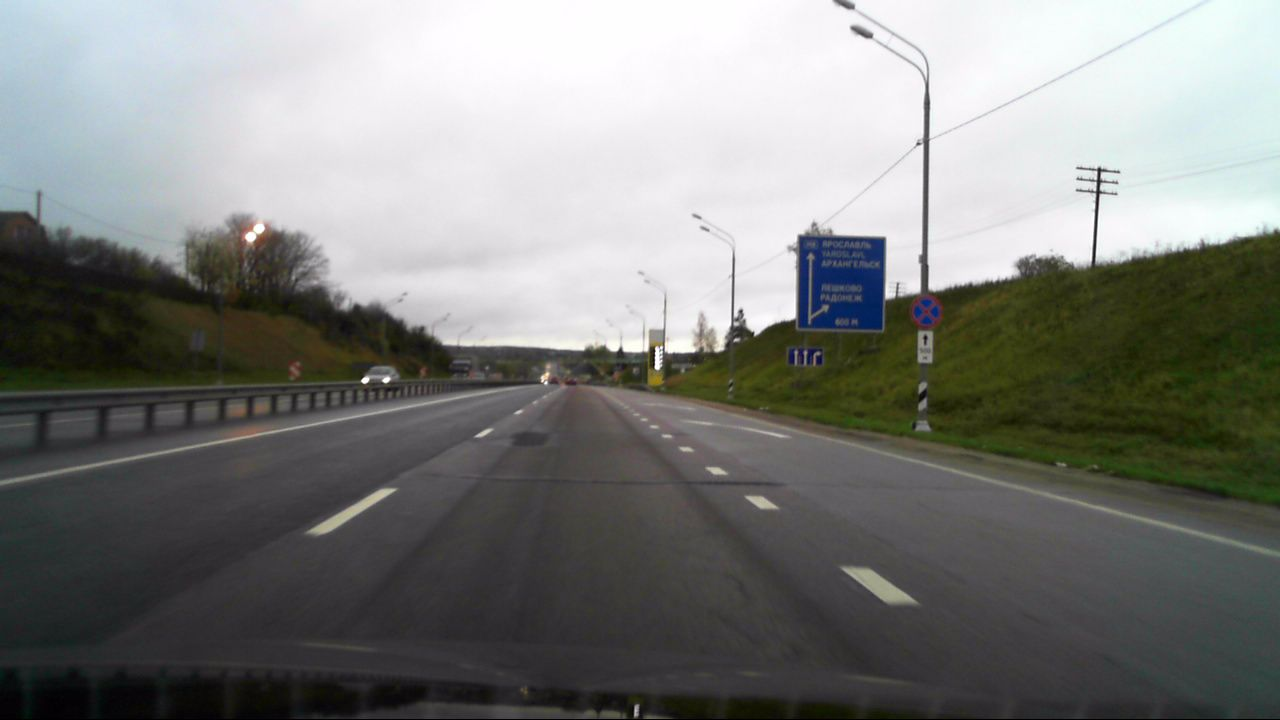No Parking: (911, 294, 942, 328)
